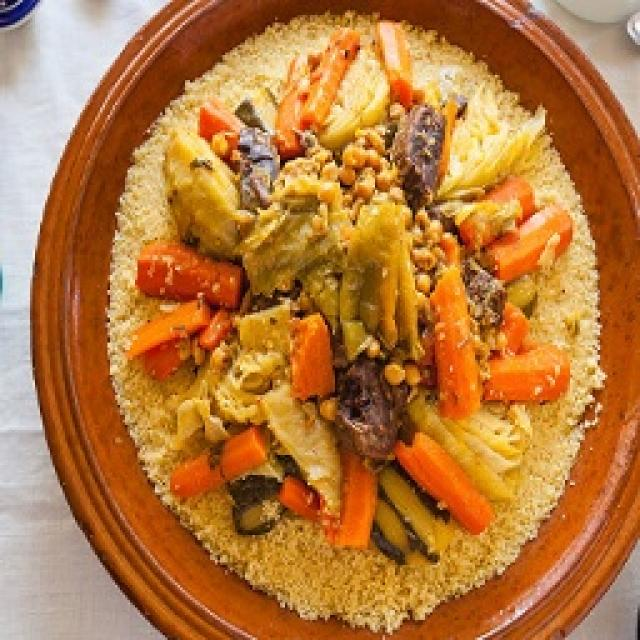Couscous: (110, 12, 602, 631)
